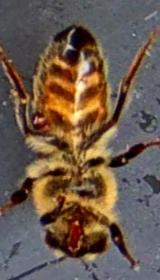varroa_mite: (23, 104, 53, 135)
